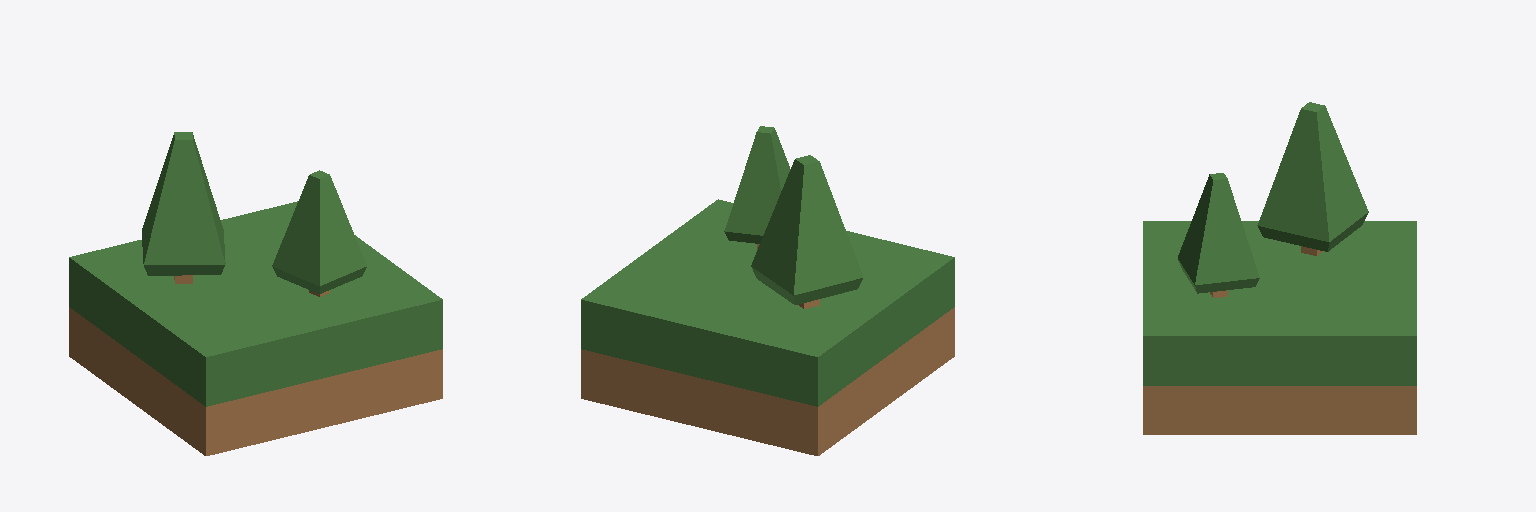
Rendered from tile_056.obj.
3 views of the same model, side by side, from view 1: azimuth 30°, elevation 25°; view 2: azimuth 150°, elevation 25°; view 3: azimuth 270°, elevation 25° (orthographic).
Parts seen in each view (by area): view 1: tile_056, Component#2; view 2: tile_056, Component#2; view 3: tile_056, Component#2.
Part boxes in pixels (x1,y1,x2,y2): tile_056: (69,201,442,455); Component#2: (142,132,366,296); tile_056: (581,199,954,455); Component#2: (724,126,863,308); tile_056: (1143,221,1416,434); Component#2: (1178,102,1368,297).
Bounding box in the file's own units: 1 × 0.9802 × 1.